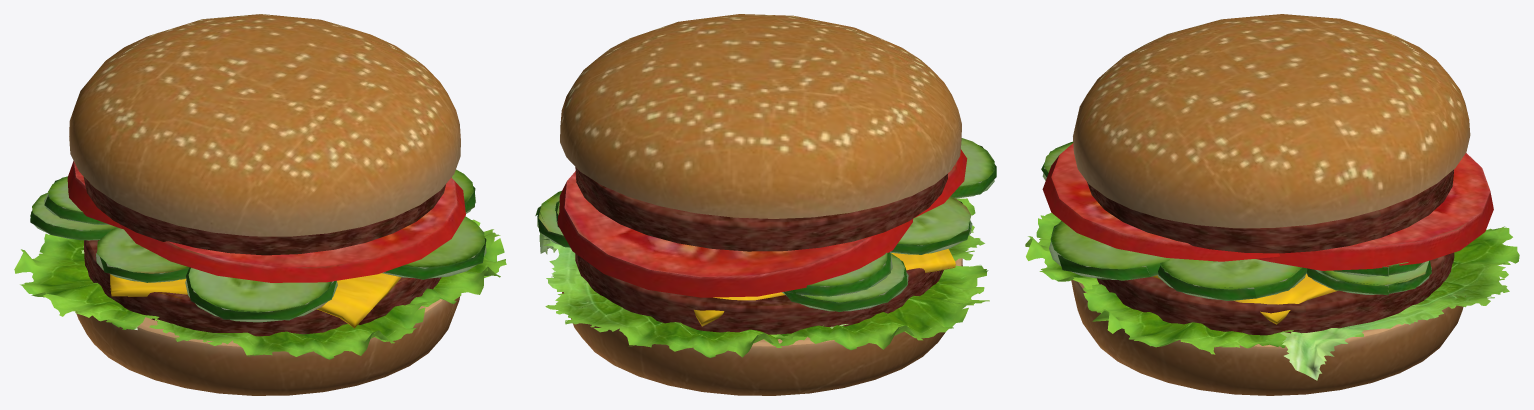
The model's file is golden-oak-signature-burger-ultralight.glb.
The picture shows the model from 3 angles, left to right: view 1: azimuth 30°, elevation 25°; view 2: azimuth 150°, elevation 25°; view 3: azimuth 270°, elevation 25°; orthographic projection. The views are drawn at different scales.
Parts seen in each view (by area): view 1: Burger_Top_Bun_Full, Burger_Bottom_Bun, Burger_Cucumbers, Burger_Tomato_Front, Burger_Patty_Top, Burger_Patty_Bottom, pPlane16, pPlane17, Burger_Cheese, pPlane14, Burger_Tomato_Back; view 2: Burger_Top_Bun_Full, Burger_Tomato_Back, Burger_Bottom_Bun, Burger_Patty_Top, Burger_Cucumbers, Burger_Patty_Bottom, pPlane15, pPlane16, Burger_Cheese, Burger_Tomato_Front, pPlane17; view 3: Burger_Top_Bun_Full, Burger_Bottom_Bun, Burger_Cucumbers, Burger_Patty_Bottom, Burger_Patty_Top, Burger_Tomato_Back, pPlane15, Burger_Tomato_Front, pPlane14, pPlane17, Burger_Cheese.
Part boxes in pixels (<box>): Burger_Top_Bun_Full: <box>69,14,460,236</box>; Burger_Bottom_Bun: <box>76,296,459,395</box>; Burger_Cucumbers: <box>30,169,486,322</box>; Burger_Tomato_Front: <box>119,177,465,282</box>; Burger_Patty_Top: <box>83,177,445,255</box>; Burger_Patty_Bottom: <box>84,240,441,336</box>; pPlane16: <box>14,233,159,329</box>; pPlane17: <box>81,246,430,359</box>; Burger_Cheese: <box>110,273,401,328</box>; pPlane14: <box>409,219,506,306</box>; Burger_Tomato_Back: <box>67,161,123,229</box>; Burger_Top_Bun_Full: <box>560,14,961,218</box>; Burger_Tomato_Back: <box>557,171,913,297</box>; Burger_Bottom_Bun: <box>562,258,962,395</box>; Burger_Patty_Top: <box>575,167,947,251</box>; Burger_Cucumbers: <box>535,138,996,311</box>; Burger_Patty_Bottom: <box>575,253,943,334</box>; pPlane15: <box>539,232,823,357</box>; pPlane16: <box>770,264,989,350</box>; Burger_Cheese: <box>694,249,955,326</box>; Burger_Tomato_Front: <box>914,149,967,217</box>; pPlane17: <box>830,198,984,328</box>; Burger_Top_Bun_Full: <box>1073,14,1470,228</box>; Burger_Bottom_Bun: <box>1071,280,1465,395</box>; Burger_Cucumbers: <box>1041,141,1431,300</box>; Burger_Patty_Bottom: <box>1097,252,1454,335</box>; Burger_Patty_Top: <box>1087,169,1453,253</box>; Burger_Tomato_Back: <box>1255,153,1493,270</box>; pPlane15: <box>1280,226,1519,380</box>; Burger_Tomato_Front: <box>1042,143,1279,261</box>; pPlane14: <box>1083,282,1293,354</box>; pPlane17: <box>1025,213,1098,289</box>; Burger_Cheese: <box>1152,274,1337,324</box>.
Bounding box in the file's own units: 1.98 × 1.21 × 2.
Materials: 3 (3 with a texture image).
